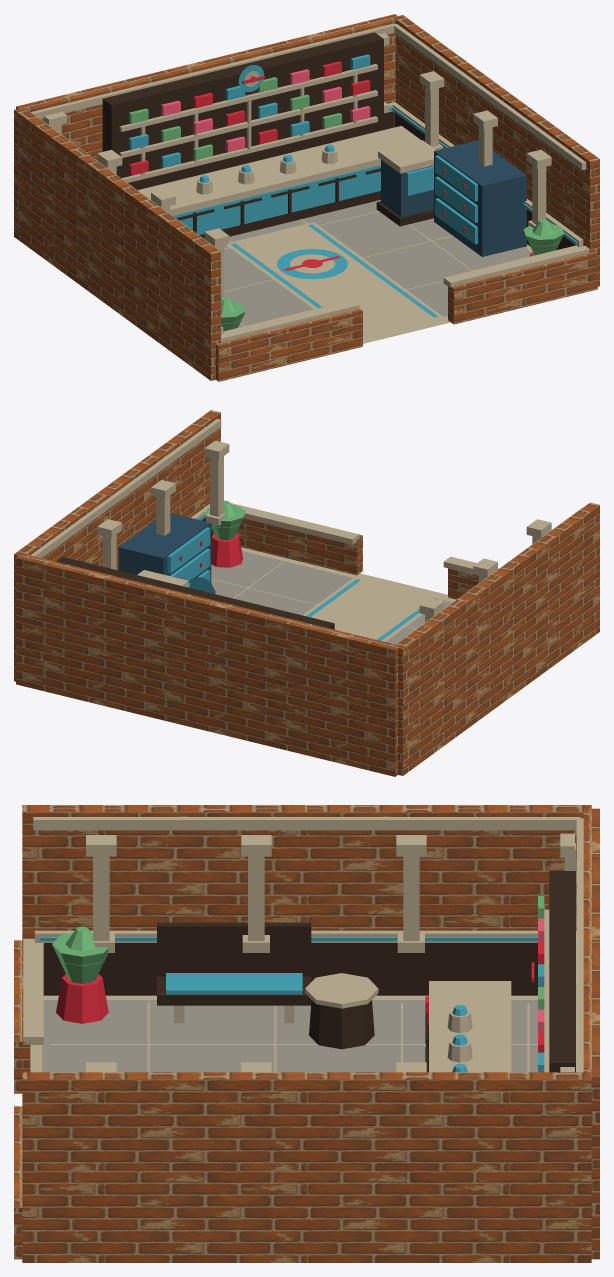
File: pokemon_center_annex_environment.glb
The picture shows the model from 3 angles, top to bottom: view 1: azimuth 30°, elevation 25°; view 2: azimuth 150°, elevation 25°; view 3: azimuth 270°, elevation 25°; orthographic projection. The views are drawn at different scales.
Visible parts, largest first — view 1: PokemonCenterAnnexEnvironment; view 2: PokemonCenterAnnexEnvironment; view 3: PokemonCenterAnnexEnvironment.
Boxes of the visible parts, x1,y1,x2,y2 form: PokemonCenterAnnexEnvironment: (14,14,599,381); PokemonCenterAnnexEnvironment: (14,410,599,776); PokemonCenterAnnexEnvironment: (14,805,599,1262).
Bounding box in the file's own units: 10.26 × 3.32 × 9.26.
Materials: 2 (2 with a texture image).
